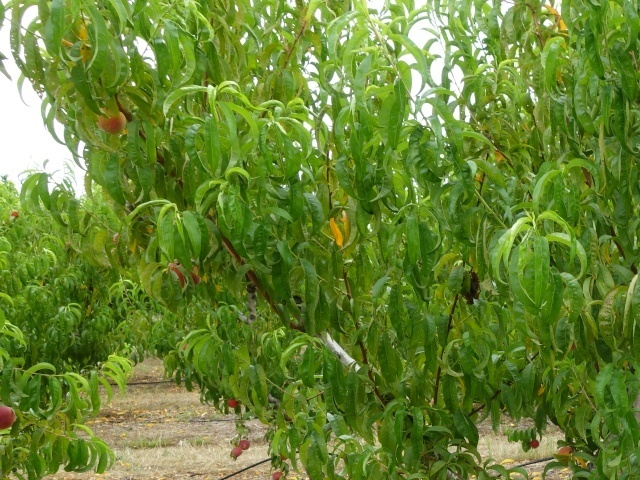peach: (95, 106, 130, 138), (1, 403, 19, 432)
